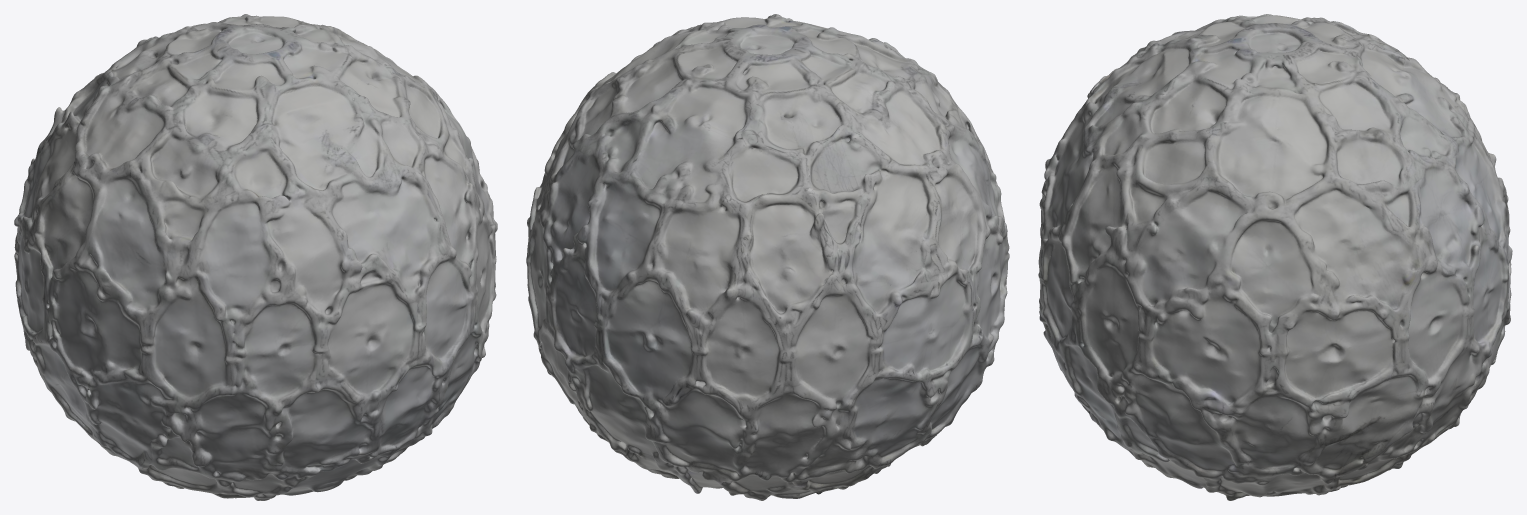
Rendered from detailed_realistic_model_solid_16.glb.
The picture shows the model from 3 angles, left to right: view 1: azimuth 30°, elevation 25°; view 2: azimuth 150°, elevation 25°; view 3: azimuth 270°, elevation 25°; orthographic projection.
Visible parts, largest first — view 1: tripo_node_da24db97-3afa-4520-af82-f3e8b40d8385; view 2: tripo_node_da24db97-3afa-4520-af82-f3e8b40d8385; view 3: tripo_node_da24db97-3afa-4520-af82-f3e8b40d8385.
Part boxes in pixels (x1=…): tripo_node_da24db97-3afa-4520-af82-f3e8b40d8385: x1=14, y1=14, x2=497, y2=500; tripo_node_da24db97-3afa-4520-af82-f3e8b40d8385: x1=526, y1=14, x2=1009, y2=500; tripo_node_da24db97-3afa-4520-af82-f3e8b40d8385: x1=1038, y1=14, x2=1512, y2=500.
Size of the model in its own units: 0.9999 by 0.9813 by 0.9848.
1 material, 1 textured.
